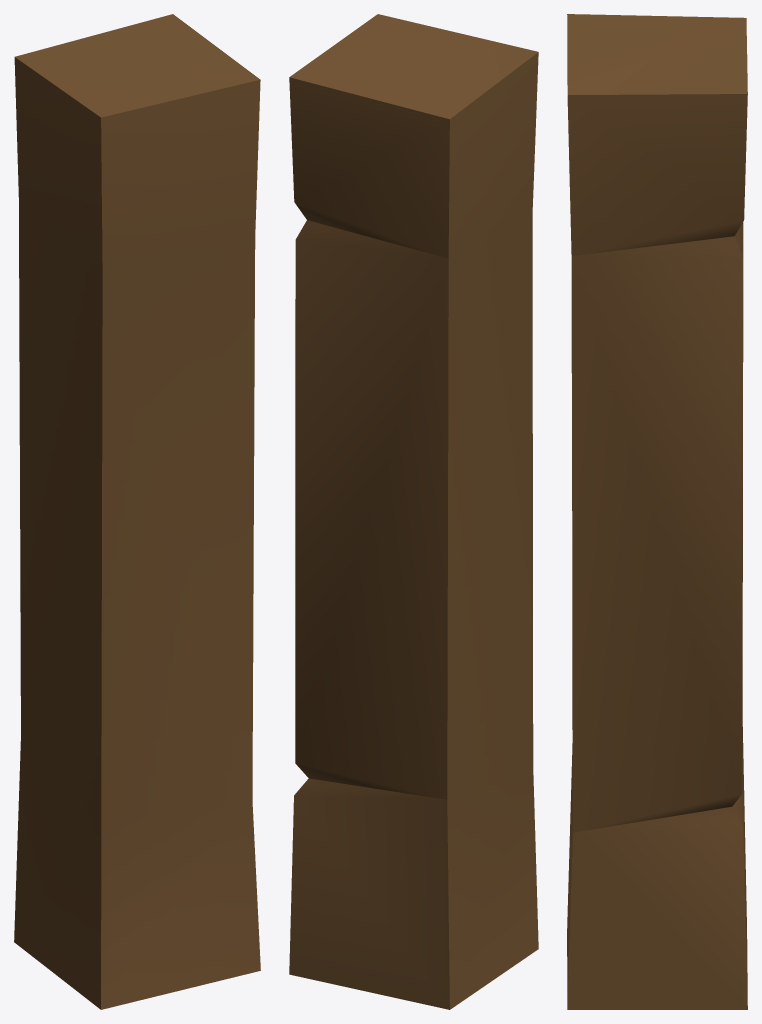
The model's file is obj_woodenBeam_A_LOW.FBX.
The picture shows the model from 3 angles, left to right: view 1: azimuth 30°, elevation 25°; view 2: azimuth 150°, elevation 25°; view 3: azimuth 270°, elevation 25°; orthographic projection. The views are drawn at different scales.
Parts seen in each view (by area): view 1: obj_woodenBeam_A_LOW; view 2: obj_woodenBeam_A_LOW; view 3: obj_woodenBeam_A_LOW.
Part boxes in pixels (left/top/right/bottom): obj_woodenBeam_A_LOW: left=14, top=14, right=260, bottom=1009; obj_woodenBeam_A_LOW: left=289, top=14, right=538, bottom=1009; obj_woodenBeam_A_LOW: left=567, top=14, right=747, bottom=1009.
Size of the model in its own units: 1.12 by 5.94 by 1.06.
